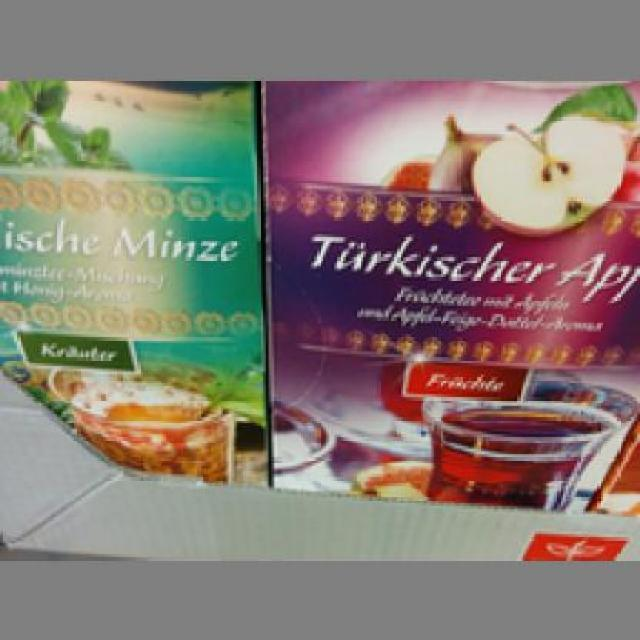Tea: (257, 80, 634, 509), (0, 77, 263, 483)
